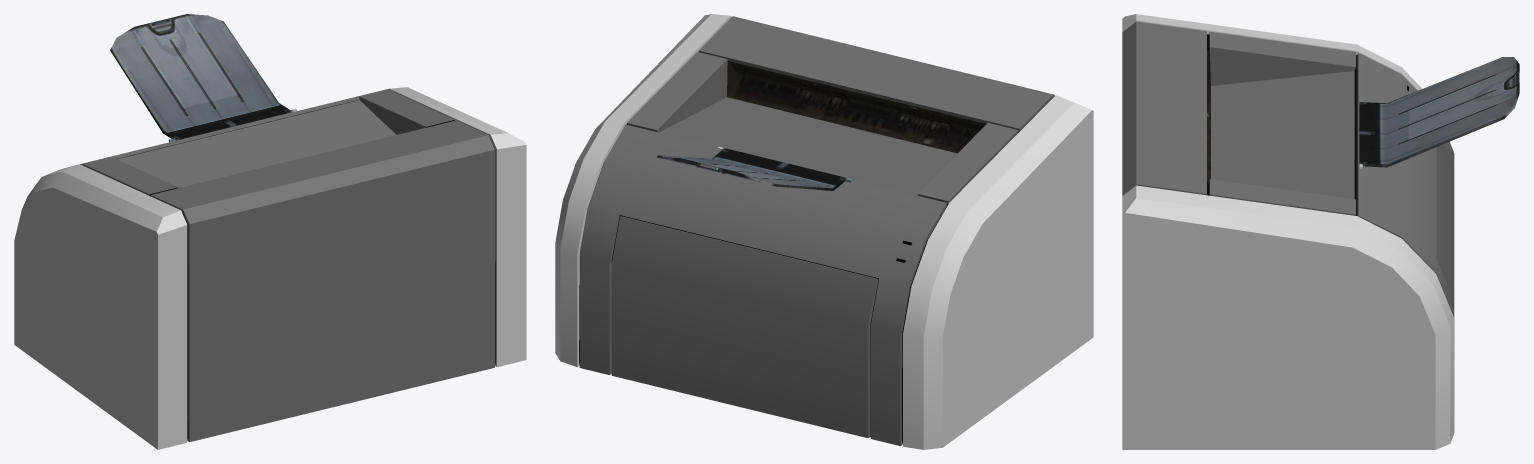
The model's file is Printer.FBX.
3 renders of one model, left to right at view 1: azimuth 30°, elevation 25°; view 2: azimuth 150°, elevation 25°; view 3: azimuth 270°, elevation 25°, orthographic. The views are drawn at different scales.
Visible parts, largest first — view 1: Printer; view 2: Printer; view 3: Printer.
Part boxes in pixels (<box>): Printer: <box>14,14,526,449</box>; Printer: <box>555,14,1093,449</box>; Printer: <box>1122,14,1519,449</box>.
Size of the model in its own units: 0.3992 by 0.2606 by 0.3415.
